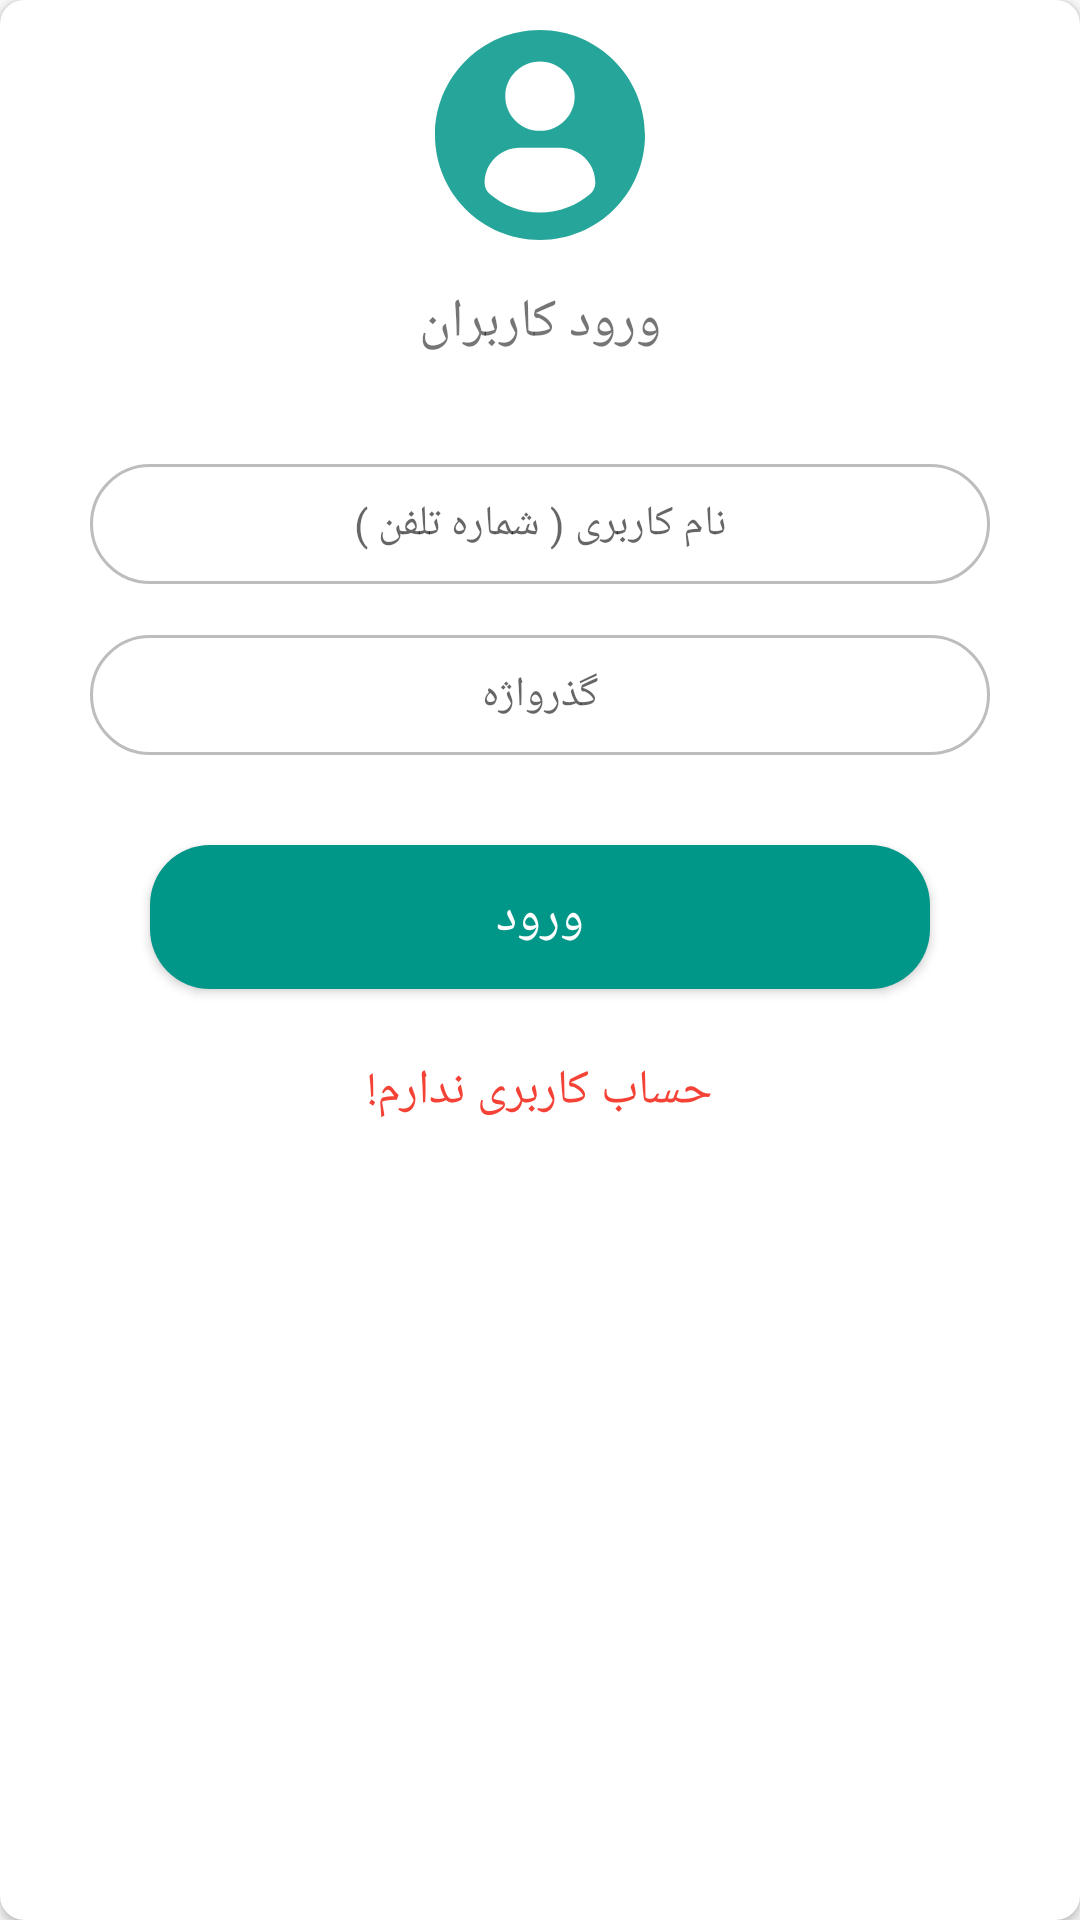

Icon bounding boxes for this 1080×1920 phone screenshot, format (x1, y1, x2, y2):
profile user: (435, 30, 645, 240)
